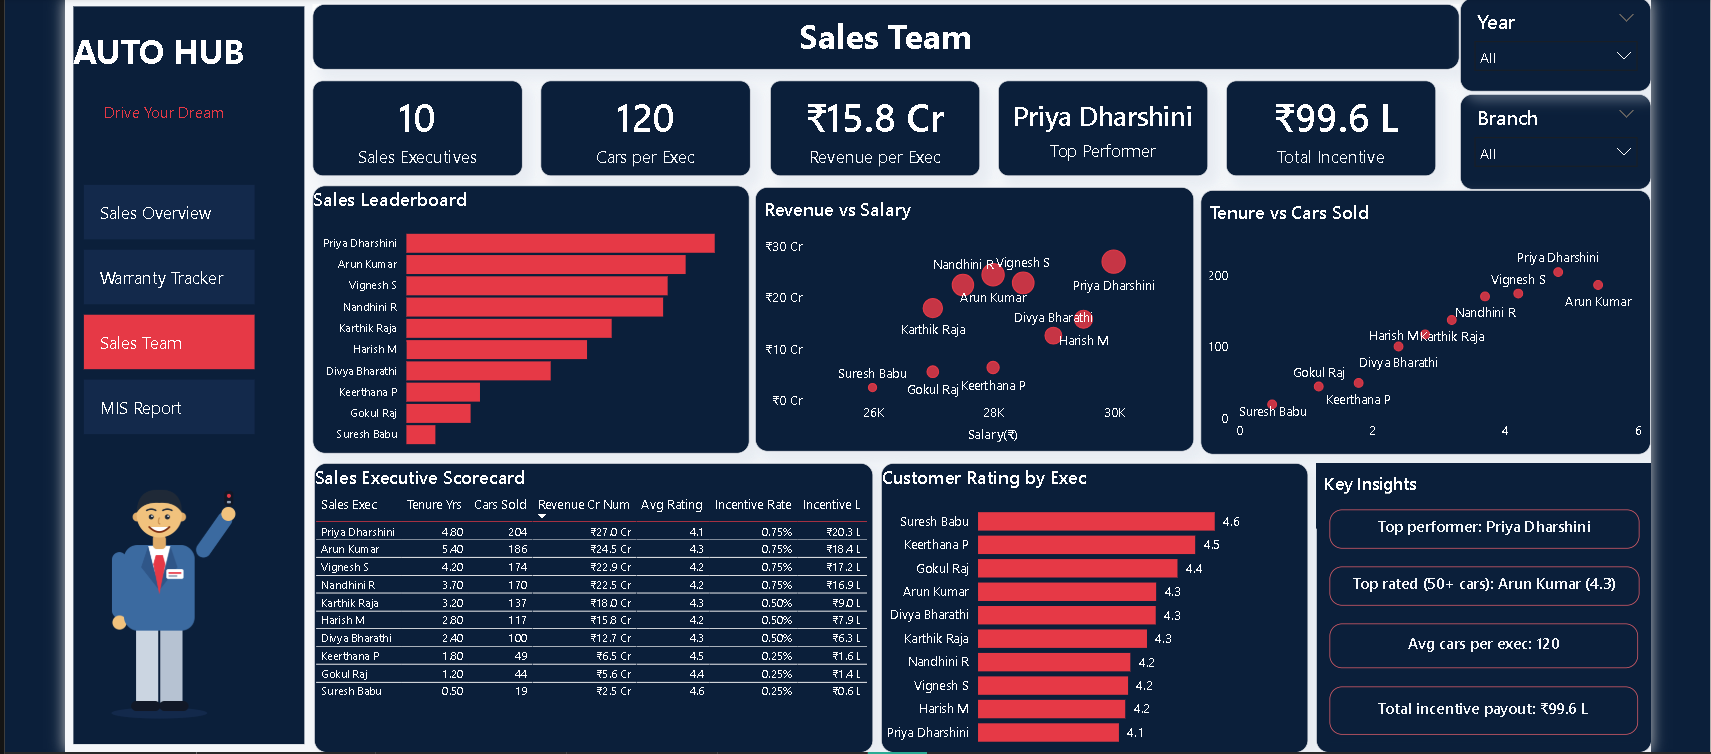

The dashboard page shown, as its layout file describes it:
{"tool":"powerbi","page":{"name":"Sales Team","canvas":[1515,720],"ordinal":2},"visuals":[{"type":"group","id":"g1","title":"Group 1","box":[236.6,5.4,1095,62.7],"z":0},{"type":"shape","box":[0,0,236.6,720.5],"z":1000},{"type":"card","fields":{"Values":["Sales.Sales Execs"]},"box":[236.6,78.9,200.7,91.4],"z":2000},{"type":"card","fields":{"Values":["Sales.Cars per Exec"]},"box":[454.8,78.9,200.7,91.4],"z":3000},{"type":"card","fields":{"Values":["Sales.Revenue per Exec"]},"box":[673,78.9,200.7,91.4],"z":4000},{"type":"card","fields":{"Values":["Sales.Top Performer"]},"box":[891.2,78.9,200.7,91.4],"z":5000},{"type":"card","fields":{"Values":["Calendar.Incentive L"]},"box":[1109.4,78.9,200.7,91.4],"z":6000},{"type":"textbox","box":[0,20.7,189.4,69.5],"z":7000},{"type":"textbox","box":[0,90.2,189.4,47.3],"z":8000},{"type":"pageNavigator","box":[10.4,170.1,179,257.4],"z":9000},{"type":"image","box":[10.4,427.6,179,276.7],"z":10000},{"type":"slicer","fields":{"Values":["Sales.Branch"]},"box":[1331.6,91.4,182.8,91.4],"z":11000},{"type":"slicer","fields":{"Values":["Calendar.Year"]},"box":[1331.6,0,182.8,89.6],"z":12000},{"type":"clusteredBarChart","title":"Sales Leaderboard","fields":{"Category":["Employees.Sales Exec"],"Y":["Sales.Revenue Cr Num"]},"box":[236.6,179.2,417.6,256.3],"z":13000},{"type":"scatterChart","title":"Revenue vs Salary","fields":{"X":["Sum(Employees.Salary)"],"Y":["Sales.Revenue Cr Num"],"Category":["Employees.Sales Exec"],"Size":["Sales.Cars Sold"]},"box":[659.5,181,419.4,252.7],"z":14000},{"type":"scatterChart","title":"Tenure vs Cars Sold","fields":{"X":["Avg(Employees.Tenure Yrs)"],"Y":["Sales.Cars Sold"],"Category":["Employees.Sales Exec"]},"box":[1084.3,182.8,430.1,252.7],"z":15000},{"type":"tableEx","title":"Sales Executive Scorecard","fields":{"Values":["Employees.Sales Exec","Employees.Tenure Yrs","Sales.Cars Sold","Sales.Revenue Cr Num","Sales.Avg Rating","Sales.Incentive Rate","Calendar.Incentive L"]},"box":[237.8,444,534.3,276.5],"z":16000},{"type":"clusteredBarChart","title":"Customer Rating by Exec","fields":{"Category":["Employees.Sales Exec"],"Y":["Sales.Avg Rating"]},"box":[779.2,444,408.2,276.5],"z":17000},{"type":"textbox","box":[236.6,5.4,1095,62.7],"z":18000,"group":"g1"},{"type":"shape","box":[1194.6,444,320.9,276.5],"z":18000},{"type":"shape","title":"Key Insights","box":[1194.4,444.4,320.4,63],"z":19000},{"type":"card","fields":{"Values":["Sales.S Insight 1"]},"box":[1207.4,488.9,296.3,37],"z":20000},{"type":"card","fields":{"Values":["Sales.S Insight 2"]},"box":[1207.4,543.2,296.3,37],"z":21000},{"type":"card","fields":{"Values":["Sales.S Insight 3"]},"box":[1207.4,597.5,294.4,42.6],"z":22000},{"type":"card","fields":{"Values":["Sales.S Insight 4"]},"box":[1207.4,657.4,294.4,46.3],"z":23000}]}

Visuals, with their boxes on the page's 1515x720 design canvas (x1, y1, x2, y2). These are canvas units, not pixel positions in the 1711x754 screenshot, which may show the page scaled, cropped or inside an application window:
"Group 1" group: <bbox>237, 5, 1332, 68</bbox>
shape: <bbox>0, 0, 237, 720</bbox>
card - Sales.Sales Execs: <bbox>237, 79, 437, 170</bbox>
card - Sales.Cars per Exec: <bbox>455, 79, 656, 170</bbox>
card - Sales.Revenue per Exec: <bbox>673, 79, 874, 170</bbox>
card - Sales.Top Performer: <bbox>891, 79, 1092, 170</bbox>
card - Calendar.Incentive L: <bbox>1109, 79, 1310, 170</bbox>
textbox: <bbox>0, 21, 189, 90</bbox>
textbox: <bbox>0, 90, 189, 138</bbox>
pageNavigator: <bbox>10, 170, 189, 428</bbox>
image: <bbox>10, 428, 189, 704</bbox>
slicer - Sales.Branch: <bbox>1332, 91, 1514, 183</bbox>
slicer - Calendar.Year: <bbox>1332, 0, 1514, 90</bbox>
"Sales Leaderboard" clusteredBarChart: <bbox>237, 179, 654, 436</bbox>
"Revenue vs Salary" scatterChart: <bbox>660, 181, 1079, 434</bbox>
"Tenure vs Cars Sold" scatterChart: <bbox>1084, 183, 1514, 436</bbox>
"Sales Executive Scorecard" tableEx: <bbox>238, 444, 772, 720</bbox>
"Customer Rating by Exec" clusteredBarChart: <bbox>779, 444, 1187, 720</bbox>
textbox: <bbox>237, 5, 1332, 68</bbox>
shape: <bbox>1195, 444, 1516, 720</bbox>
"Key Insights" shape: <bbox>1194, 444, 1515, 507</bbox>
card - Sales.S Insight 1: <bbox>1207, 489, 1504, 526</bbox>
card - Sales.S Insight 2: <bbox>1207, 543, 1504, 580</bbox>
card - Sales.S Insight 3: <bbox>1207, 598, 1502, 640</bbox>
card - Sales.S Insight 4: <bbox>1207, 657, 1502, 704</bbox>
